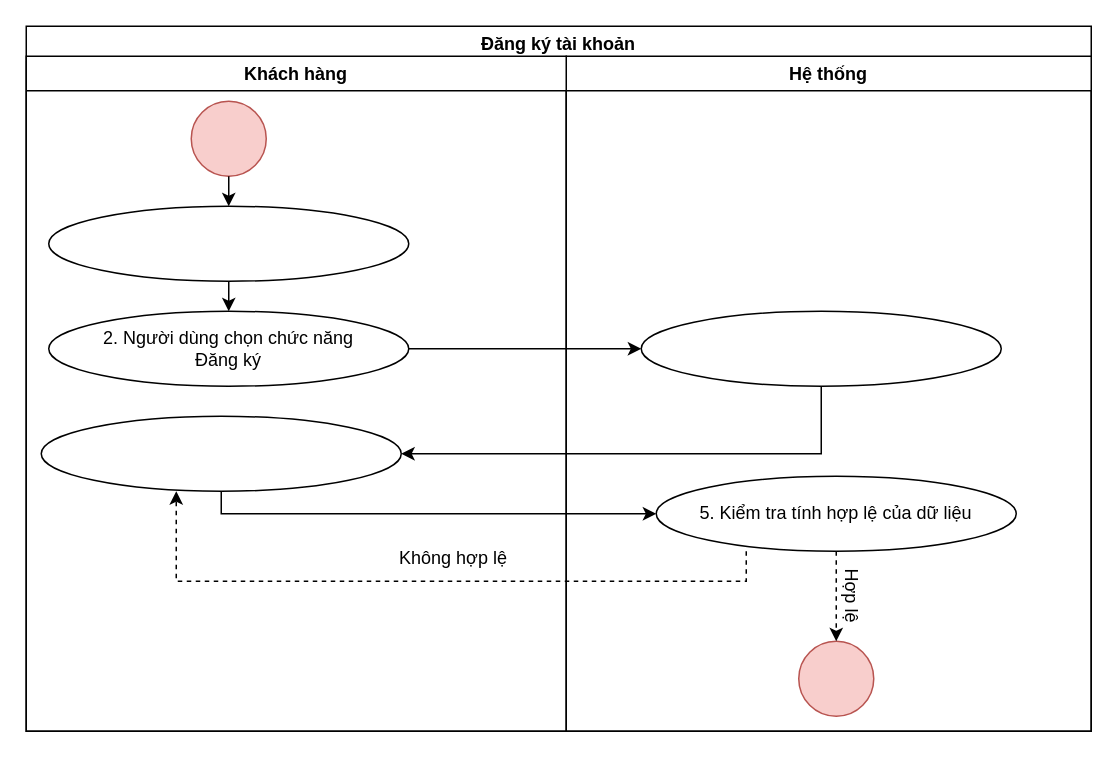
Image size: 1118x758. Some labels were removed from this diagram. The shapes that lost their labels are listed below. From the top down, each one's box as (x1, y1, x2, y2) in pixels, then its label:
(47, 205, 409, 281): 1. Người dùng truy cập vào hệ thống với vai trò là khách hàng.
(640, 310, 1001, 386): 3. Hiện form Đăng ký
(40, 415, 401, 491): 4. Điền các thông tin để đăng ký
